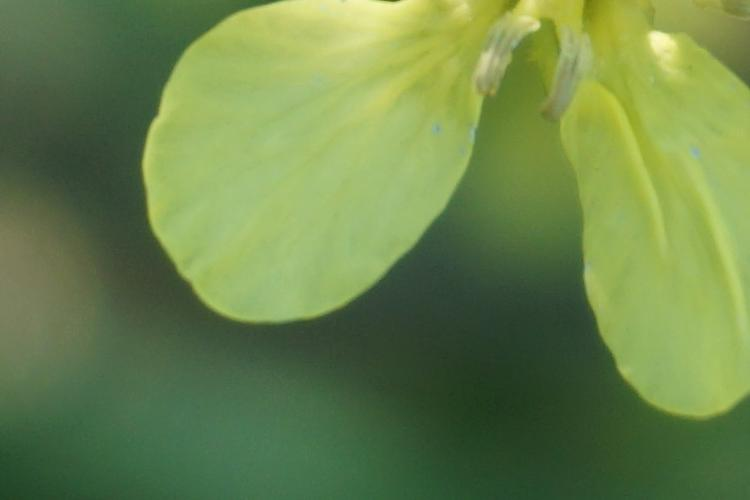yellow: (138, 1, 750, 426)
